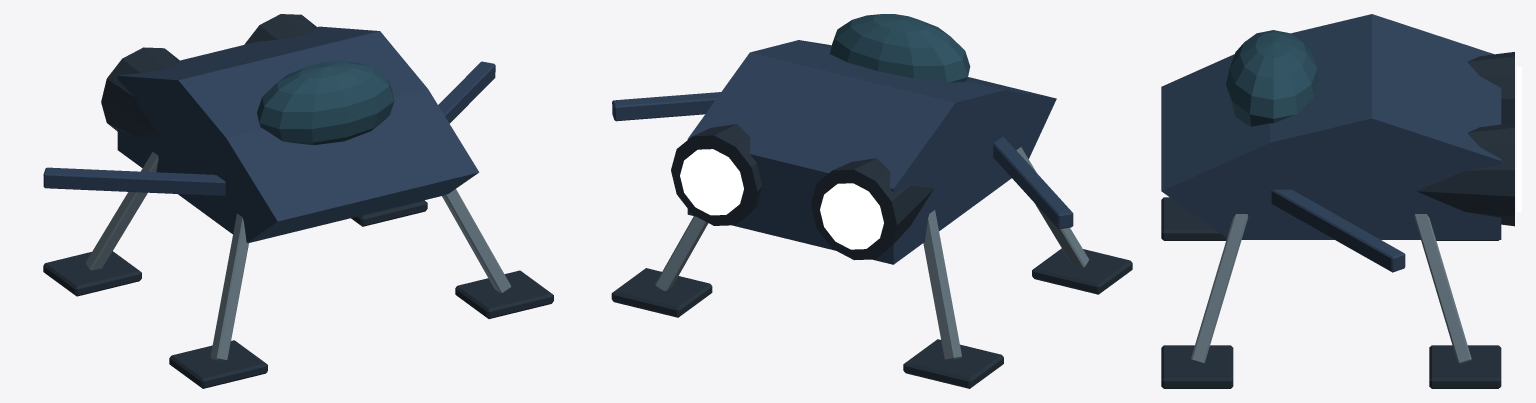
The model's file is vehicles-hovercraft.lod0.glb.
The picture shows the model from 3 angles, left to right: view 1: azimuth 30°, elevation 25°; view 2: azimuth 150°, elevation 25°; view 3: azimuth 270°, elevation 25°; orthographic projection. The views are drawn at different scales.
Visible parts, largest first — view 1: vehicles-hovercraft__body, vehicles-hovercraft__leg_-1p7_1p3, vehicles-hovercraft__leg_1p7_1p3, vehicles-hovercraft__leg_-1p7_-1p3, vehicles-hovercraft__leg_1p7_-1p3; view 2: vehicles-hovercraft__body, vehicles-hovercraft__leg_-1p7_-1p3, vehicles-hovercraft__leg_1p7_-1p3, vehicles-hovercraft__leg_-1p7_1p3; view 3: vehicles-hovercraft__body, vehicles-hovercraft__leg_1p7_1p3, vehicles-hovercraft__leg_1p7_-1p3, vehicles-hovercraft__leg_-1p7_1p3.
Part boxes in pixels (<box>): vehicles-hovercraft__body: <box>43,14,495,242</box>; vehicles-hovercraft__leg_-1p7_1p3: <box>169,213,267,388</box>; vehicles-hovercraft__leg_1p7_1p3: <box>442,189,553,318</box>; vehicles-hovercraft__leg_-1p7_-1p3: <box>43,152,158,296</box>; vehicles-hovercraft__leg_1p7_-1p3: <box>351,200,427,226</box>; vehicles-hovercraft__body: <box>612,14,1073,264</box>; vehicles-hovercraft__leg_-1p7_-1p3: <box>903,210,1003,388</box>; vehicles-hovercraft__leg_1p7_-1p3: <box>611,216,712,317</box>; vehicles-hovercraft__leg_-1p7_1p3: <box>1016,147,1132,294</box>; vehicles-hovercraft__body: <box>1161,14,1521,272</box>; vehicles-hovercraft__leg_1p7_1p3: <box>1161,214,1248,388</box>; vehicles-hovercraft__leg_1p7_-1p3: <box>1414,214,1501,388</box>; vehicles-hovercraft__leg_-1p7_1p3: <box>1161,197,1226,240</box>.
Size of the model in its own units: 5.37 by 2.75 by 3.5.
